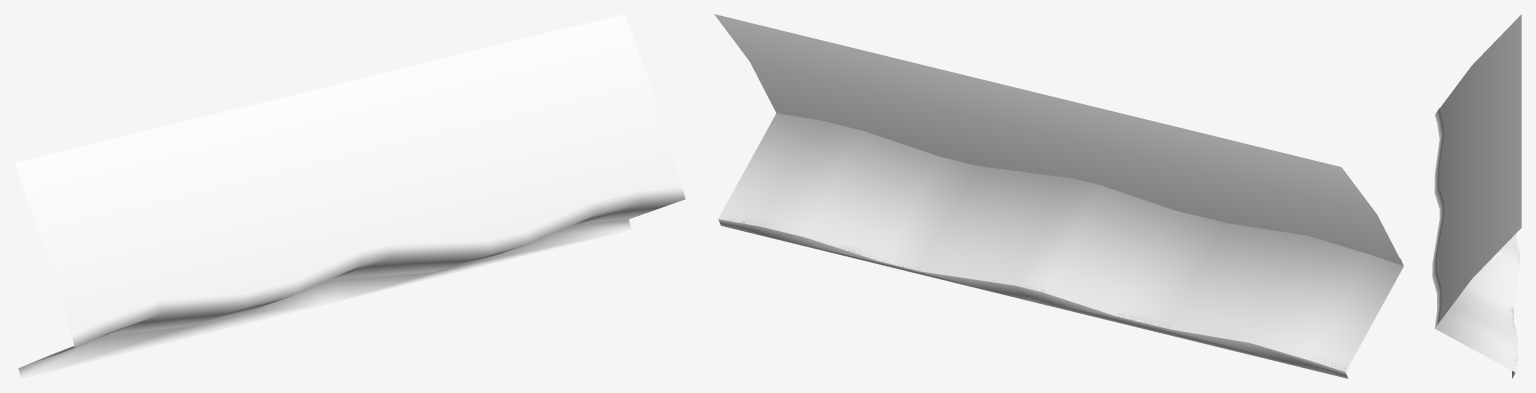
The model's file is grd_En_i_0.dae.
3 views of the same model, side by side, from view 1: azimuth 30°, elevation 25°; view 2: azimuth 150°, elevation 25°; view 3: azimuth 270°, elevation 25° (orthographic). The views are drawn at different scales.
Parts seen in each view (by area): view 1: grass_1_0, cliff_0_0; view 2: cliff_0_0, grass_1_0; view 3: grass_1_0, cliff_0_0.
Part boxes in pixels (bbox=[...]): grass_1_0: bbox=[14, 14, 681, 378]; cliff_0_0: bbox=[23, 186, 685, 366]; cliff_0_0: bbox=[718, 113, 1403, 371]; grass_1_0: bbox=[714, 14, 1403, 378]; grass_1_0: bbox=[1435, 14, 1521, 378]; cliff_0_0: bbox=[1432, 108, 1519, 372].
Size of the model in its own units: 512 by 169 by 90.55.
2 materials, 1 textured.
